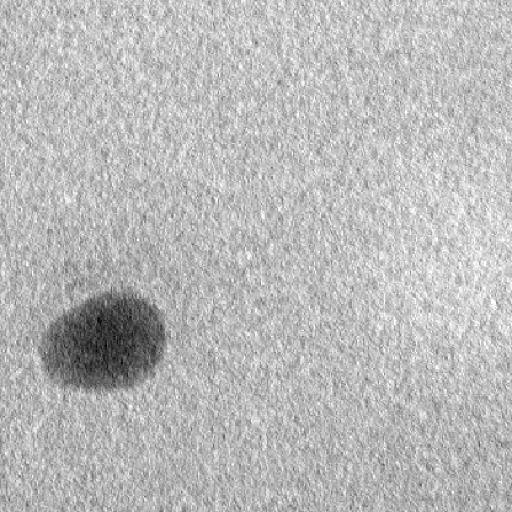Nanoparticles: (36, 280, 172, 394)
